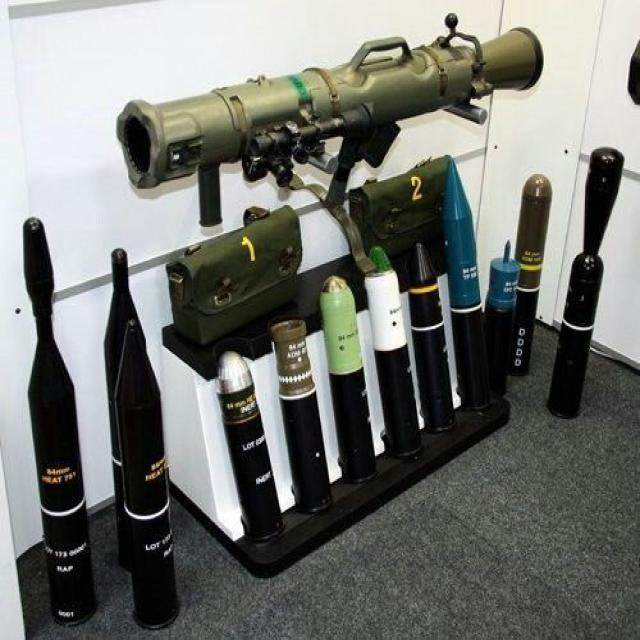bazooka: (95, 11, 558, 193)
